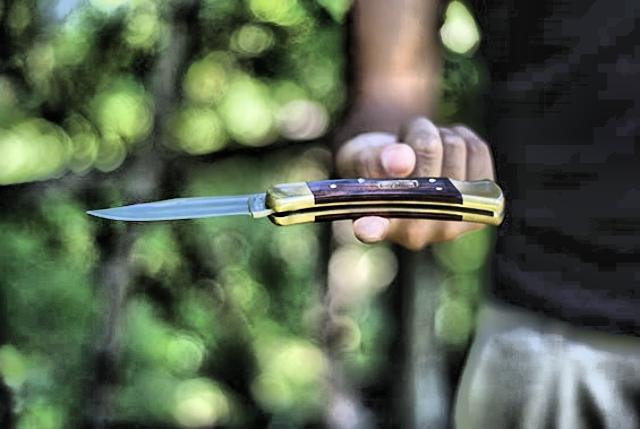knife: (76, 162, 514, 245)
